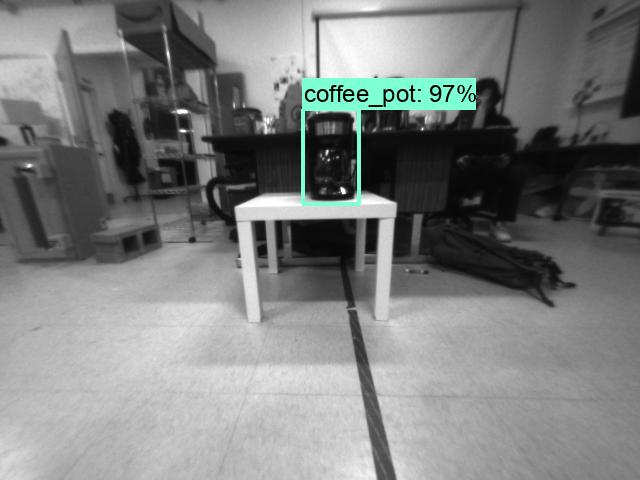coffee_pot: (303, 109, 359, 202)
